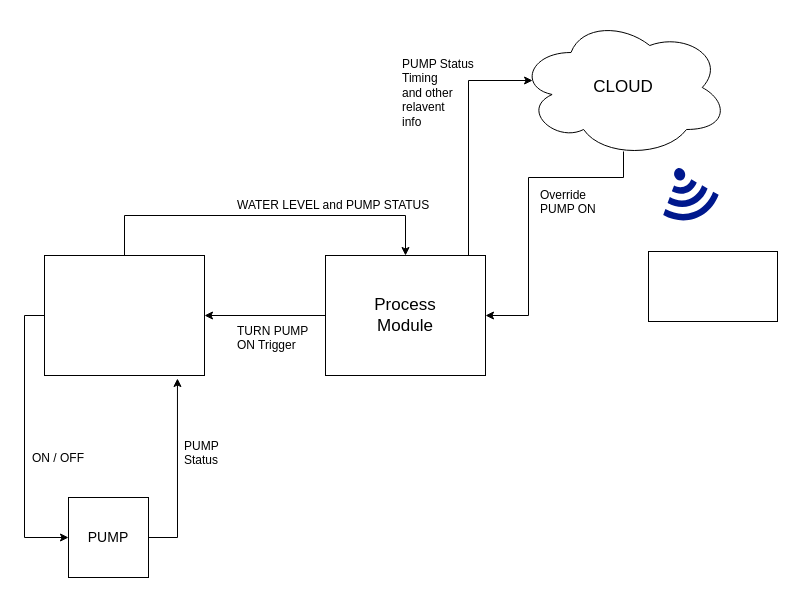
Image size: 795x595. Some labels were removed from this diagram. Each missing label, with the centre of its shape:
"Water Level Module" goes at (x=124, y=315).
"WebApp Module" goes at (x=713, y=286).
